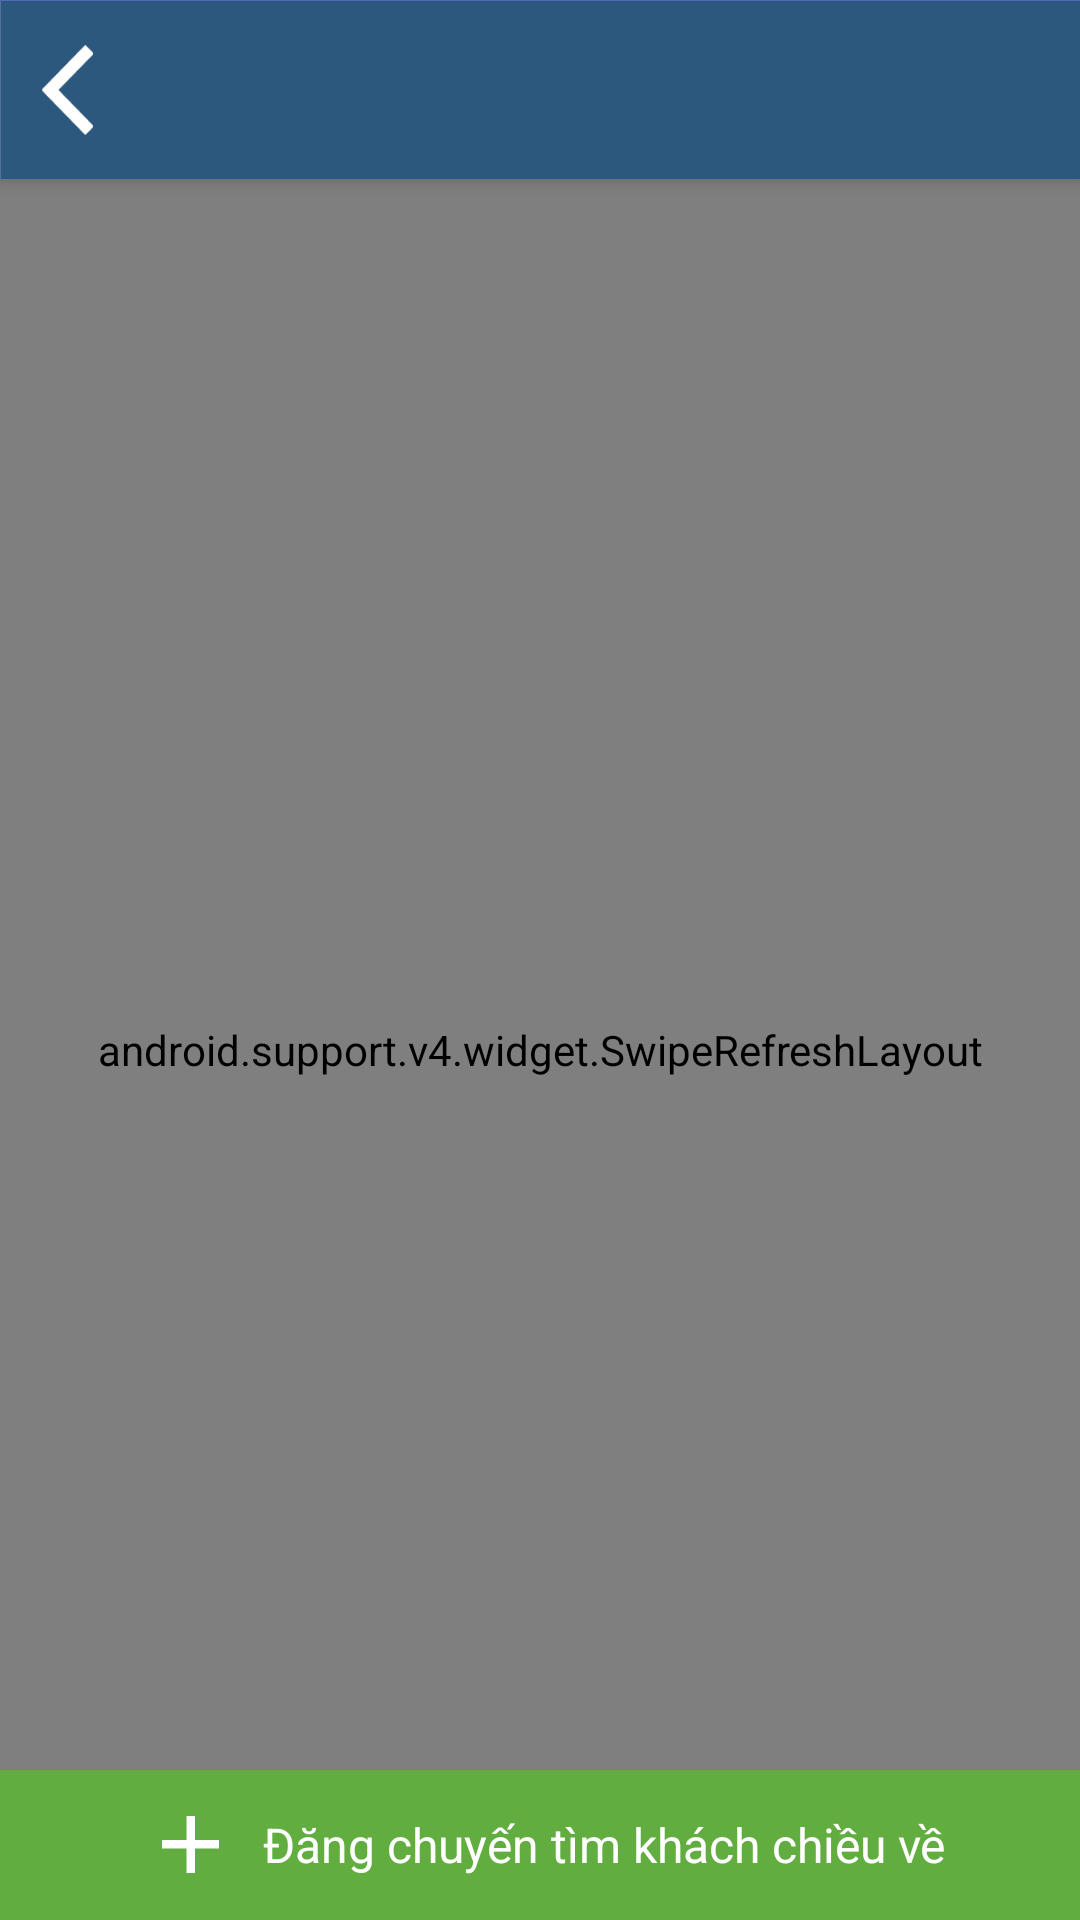

Icons on this 1080×1920 Android screen, each with the point to tap as (x=x, y=y):
back: (x=90, y=90)
